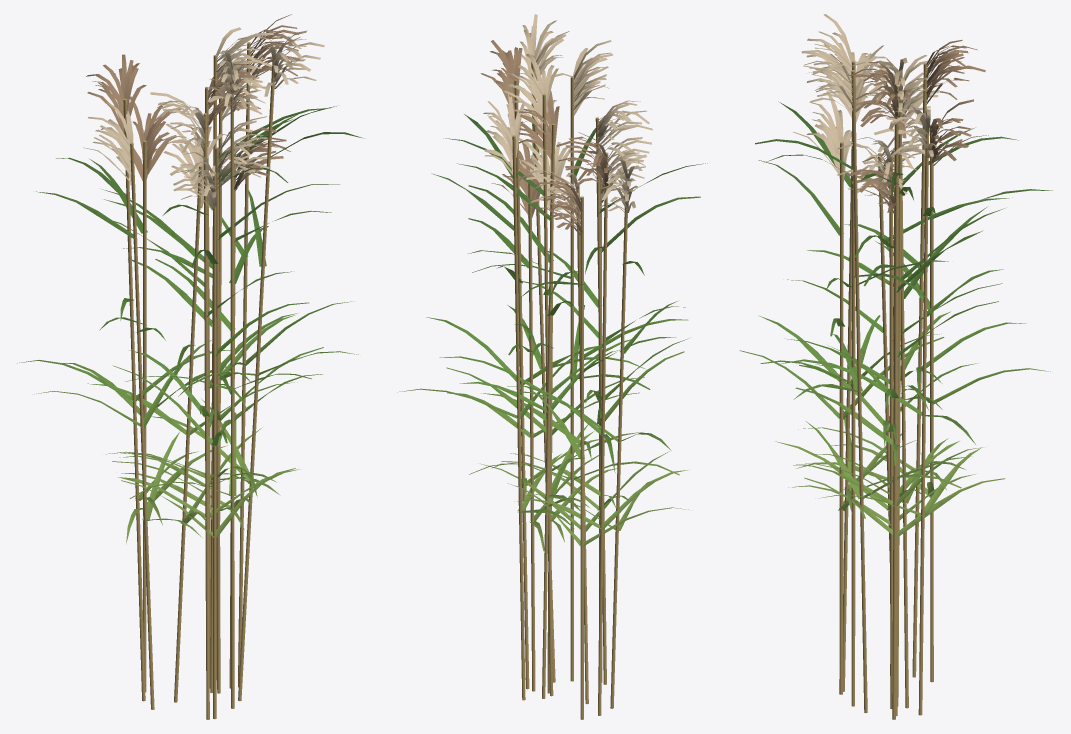
Rendered from reeds.glb.
3 renders of one model, left to right at view 1: azimuth 30°, elevation 25°; view 2: azimuth 150°, elevation 25°; view 3: azimuth 270°, elevation 25°, orthographic. The views are drawn at different scales.
Visible parts, largest first — view 1: Reeds; view 2: Reeds; view 3: Reeds.
Boxes of the visible parts, <box> form: Reeds: <box>17,14,365,719</box>; Reeds: <box>397,14,707,719</box>; Reeds: <box>739,14,1052,719</box>.
Bounding box in the file's own units: 1.01 × 2.21 × 0.928.
Materials: 4 (1 with a texture image).
